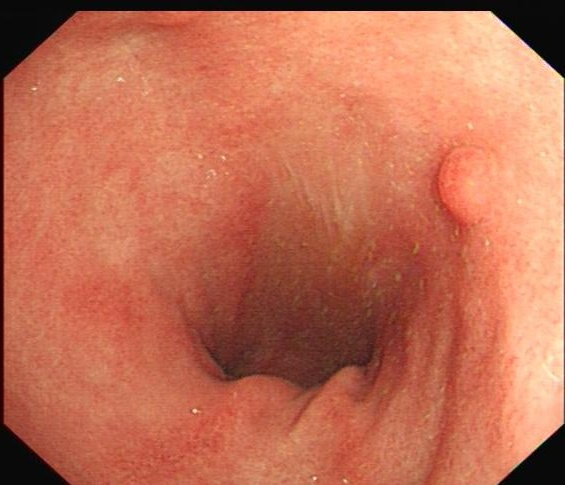Polyp: (430, 138, 505, 229)
